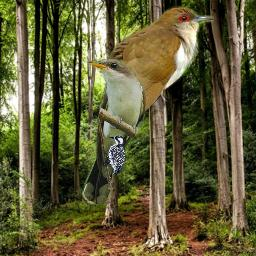Cuckoo: (88, 4, 214, 215), (82, 59, 146, 205)
Woodpecker: (104, 134, 126, 174)
